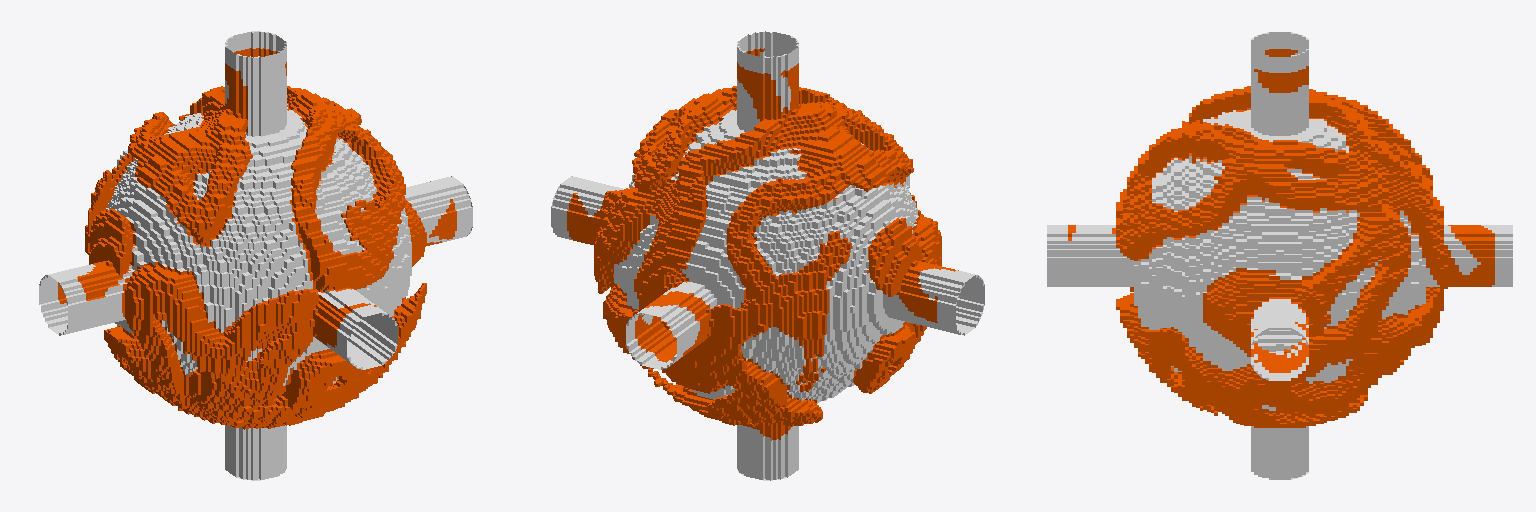
The picture shows the model from 3 angles: view 1: azimuth 30°, elevation 25°; view 2: azimuth 150°, elevation 25°; view 3: azimuth 270°, elevation 25°; orthographic projection.
Bounding box in the file's own units: 12.8 × 12.8 × 12.8.
1 materials, 1 textured.